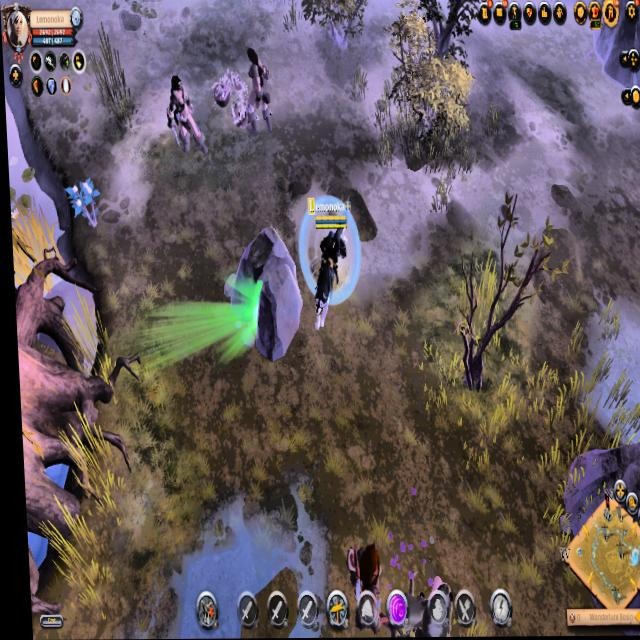fiber tier 4: (63, 178, 101, 235)
